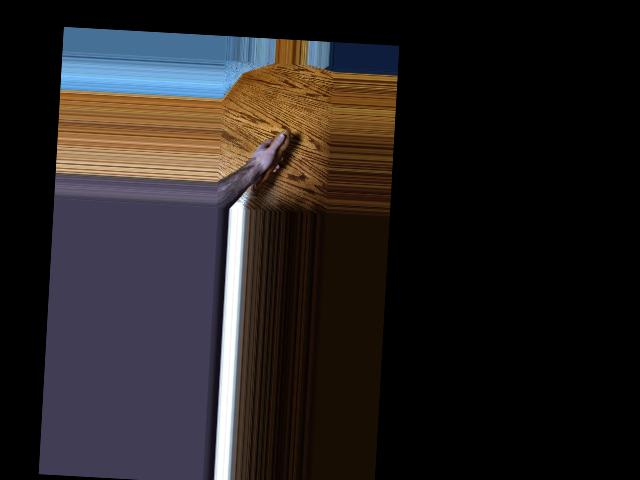sweet_potato: (248, 126, 293, 203)
